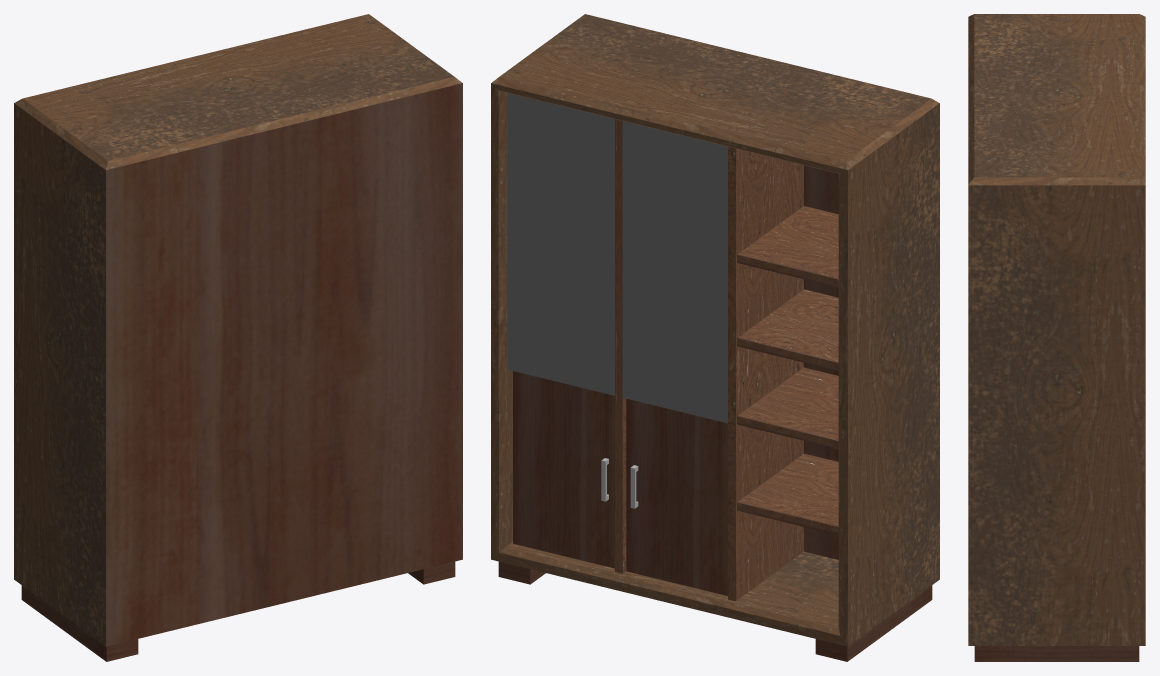
Rendered from BigCloset.fbx.
3 views of the same model, side by side, from view 1: azimuth 30°, elevation 25°; view 2: azimuth 150°, elevation 25°; view 3: azimuth 270°, elevation 25° (orthographic). The views are drawn at different scales.
Visible parts, largest first — view 1: BigCloset; view 2: BigCloset, BigClosetGlass; view 3: BigCloset.
Boxes of the visible parts, box(x1,y1,x2,y2) form: BigCloset: box(14, 14, 462, 661); BigCloset: box(491, 14, 939, 661); BigClosetGlass: box(507, 93, 727, 423); BigCloset: box(968, 14, 1145, 661).
Bounding box in the file's own units: 200 × 268 × 89.
